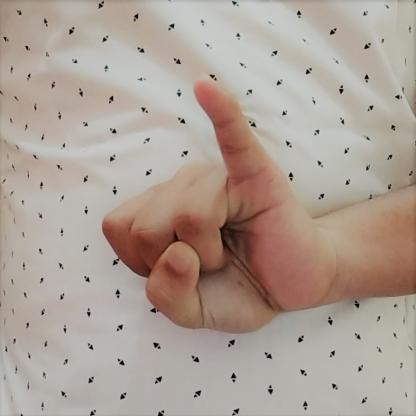I: (96, 73, 332, 344)
